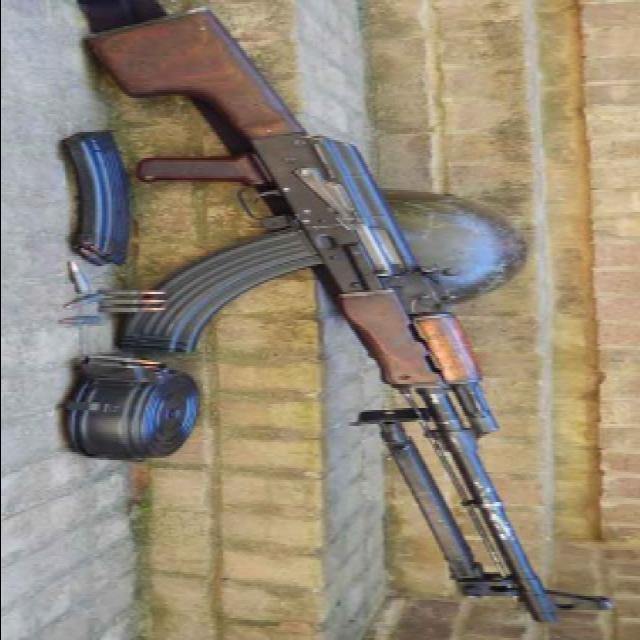rifle: (54, 3, 624, 625)
